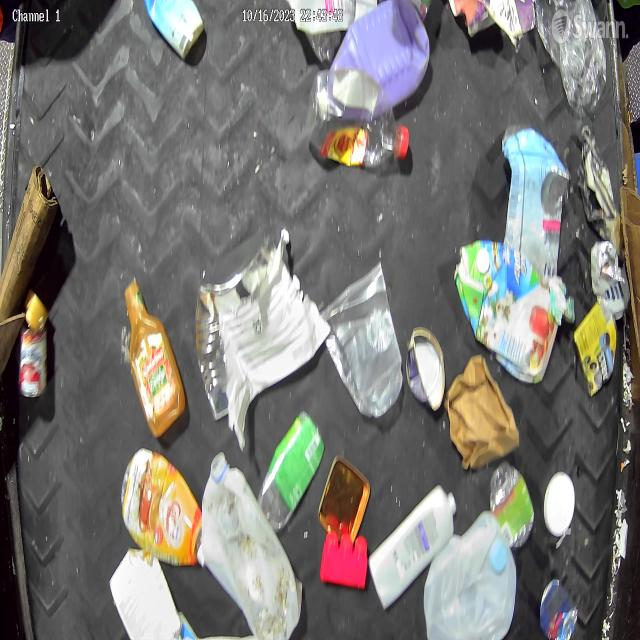can: (405, 328, 446, 412), (539, 577, 577, 640), (19, 328, 48, 398)
milk_jug: (197, 459, 300, 638), (423, 510, 517, 640)
non_white_jug: (454, 240, 559, 384), (329, 2, 430, 112), (506, 129, 568, 283)
plastic_bottle: (309, 69, 410, 169), (543, 3, 603, 120)
